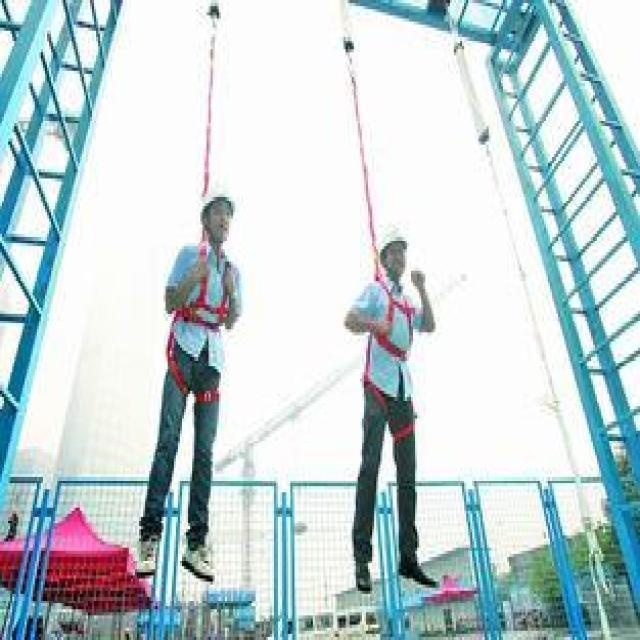Arnes_seguridad: (164, 237, 227, 400), (358, 268, 417, 434)
